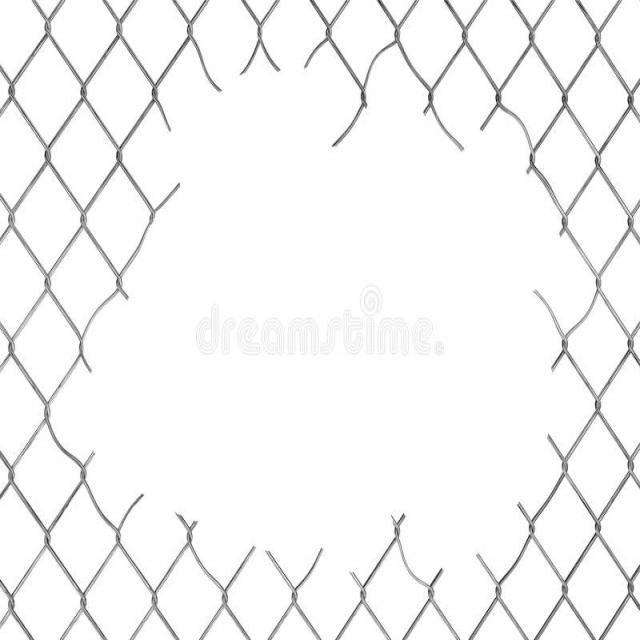fence line: (44, 60, 591, 580)
